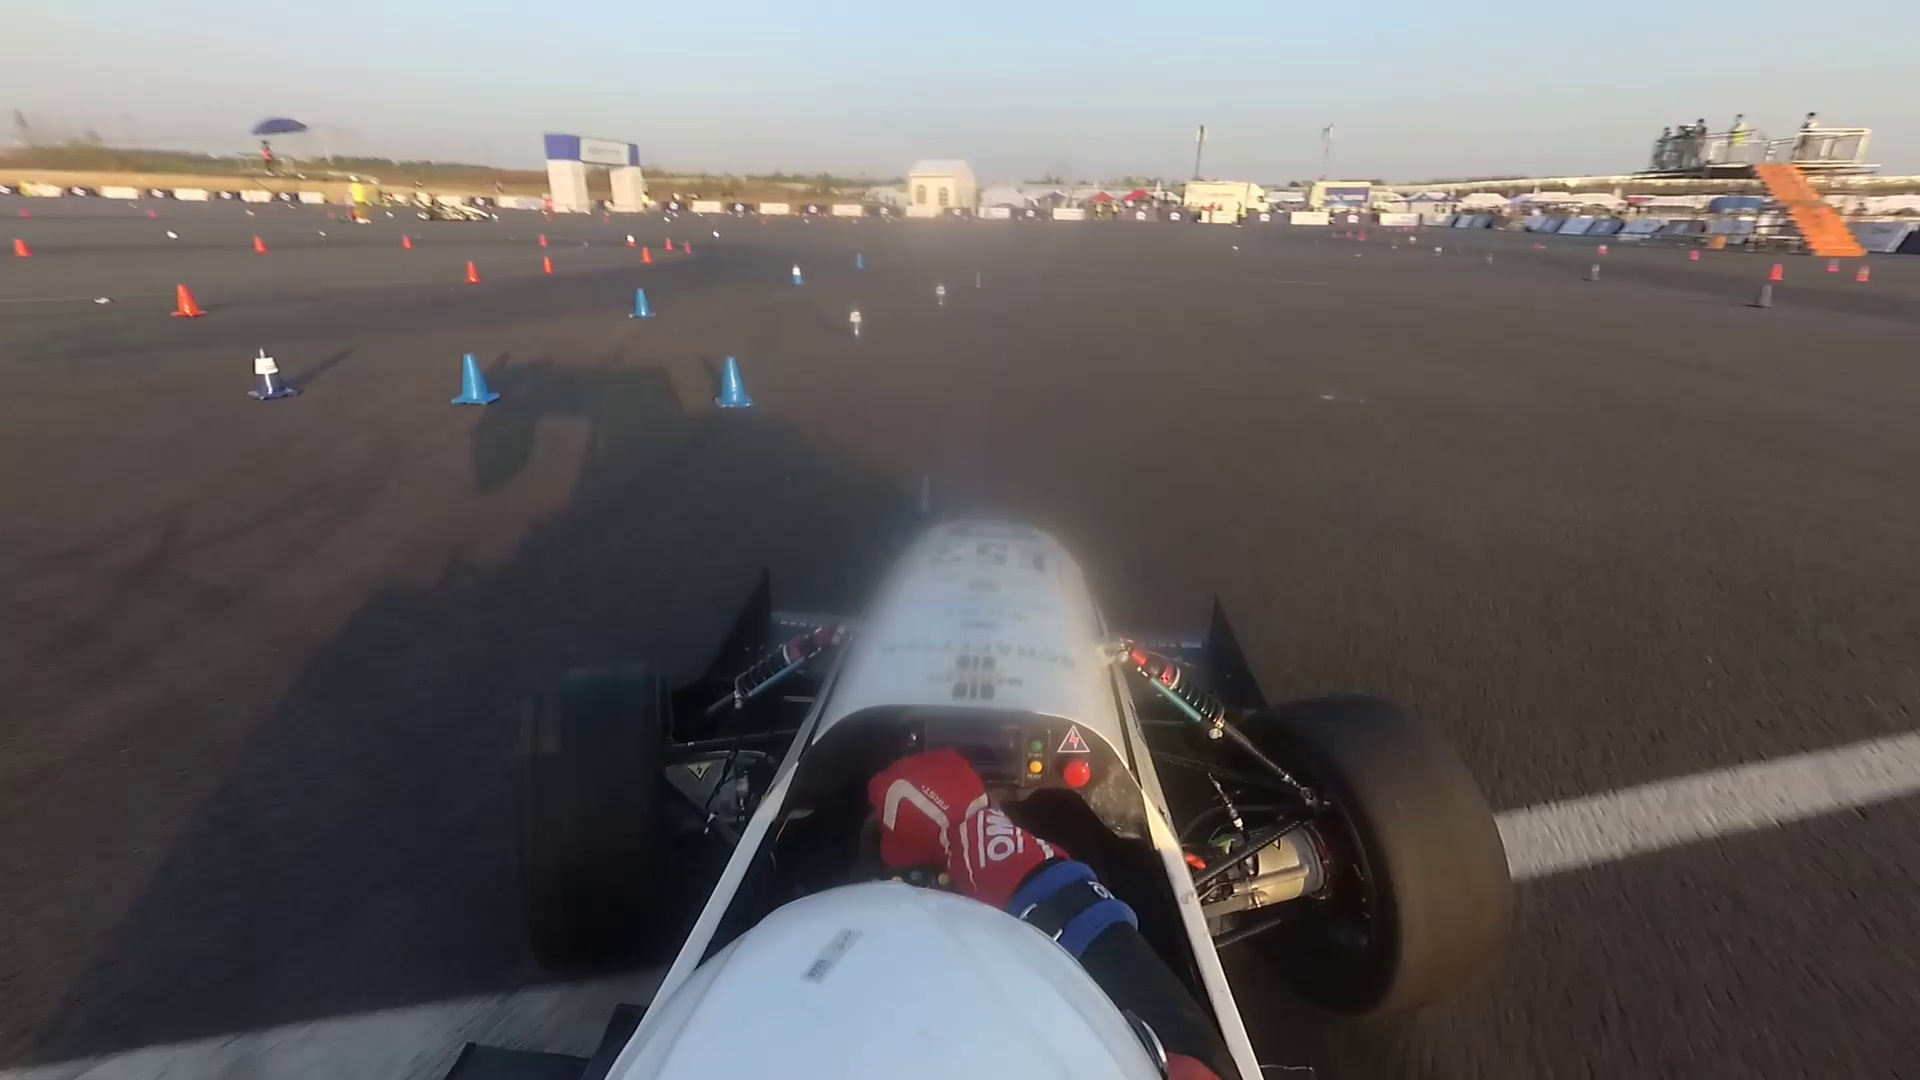blue_cone: (239, 347, 293, 402), (451, 353, 497, 411), (709, 367, 756, 419), (622, 287, 659, 323), (845, 310, 866, 336), (928, 284, 948, 309), (785, 264, 806, 285), (1758, 285, 1772, 309), (971, 272, 982, 295), (852, 251, 864, 272), (1589, 262, 1600, 284)
red_cone: (173, 284, 200, 316), (11, 239, 32, 258), (465, 261, 483, 284), (253, 235, 268, 255), (542, 256, 554, 274), (1770, 264, 1783, 280), (1859, 262, 1870, 281), (640, 247, 651, 262), (665, 236, 674, 253), (1828, 260, 1840, 273), (680, 240, 691, 253), (538, 233, 549, 247), (626, 233, 636, 248), (402, 237, 413, 249), (1691, 251, 1700, 260), (1600, 245, 1607, 255)
